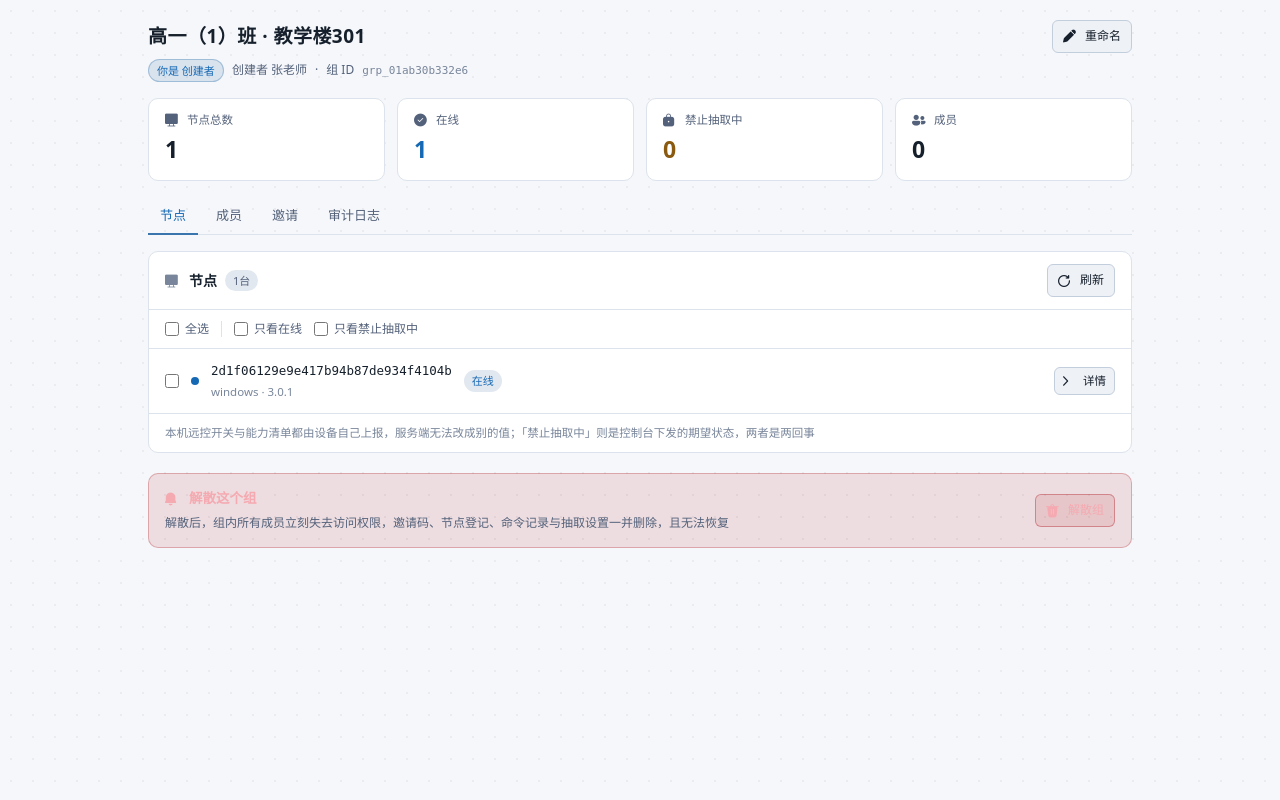
GroupDetailView 节点列表 › 能力清单放在单节点展开详情里，列表行上不出现协议常量
Step 1. Click the button with test id "node-expand-2d1f06129e9e417b94b87de934f4104b" → [1084, 381], box [1054,367,1115,395]
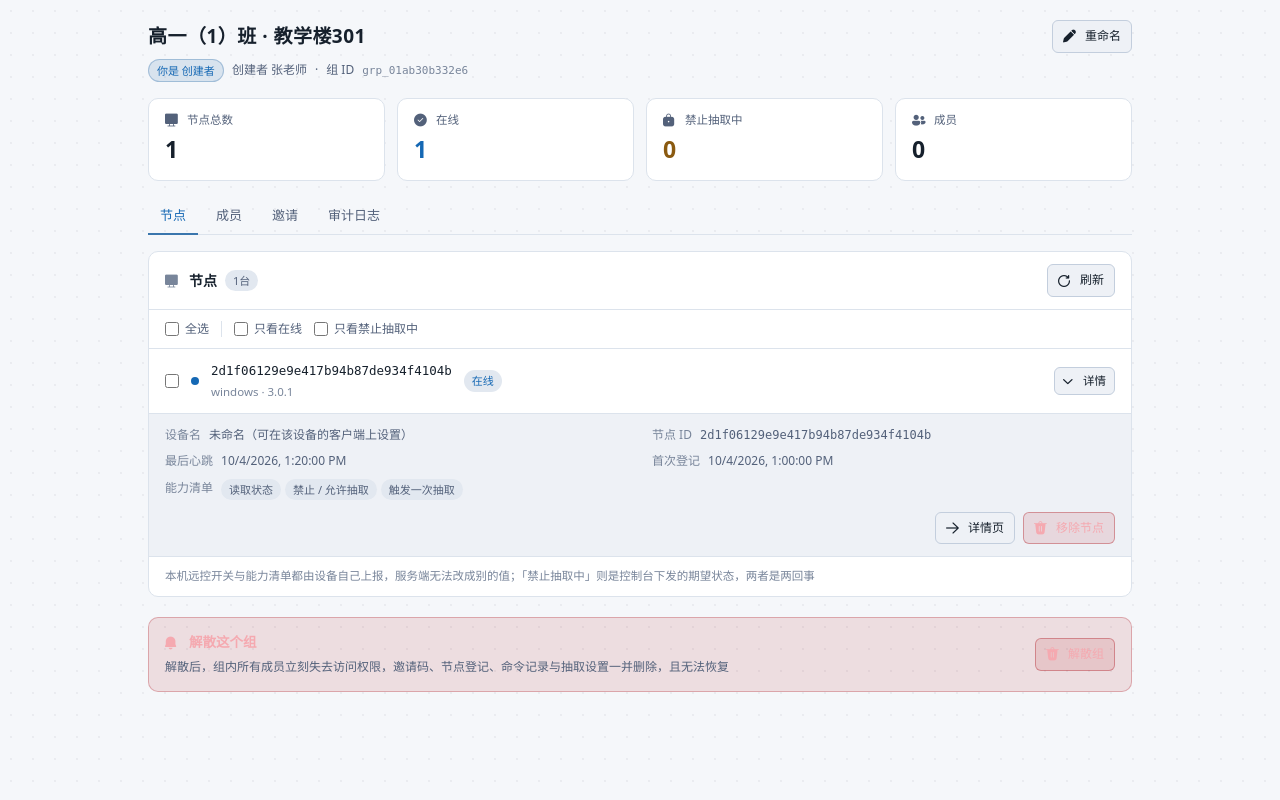
Expected: the element with test id "node-detail-2d1f06129e9e417b94b87de934f4104b" shows "读取状态", [229,482,273,497]
